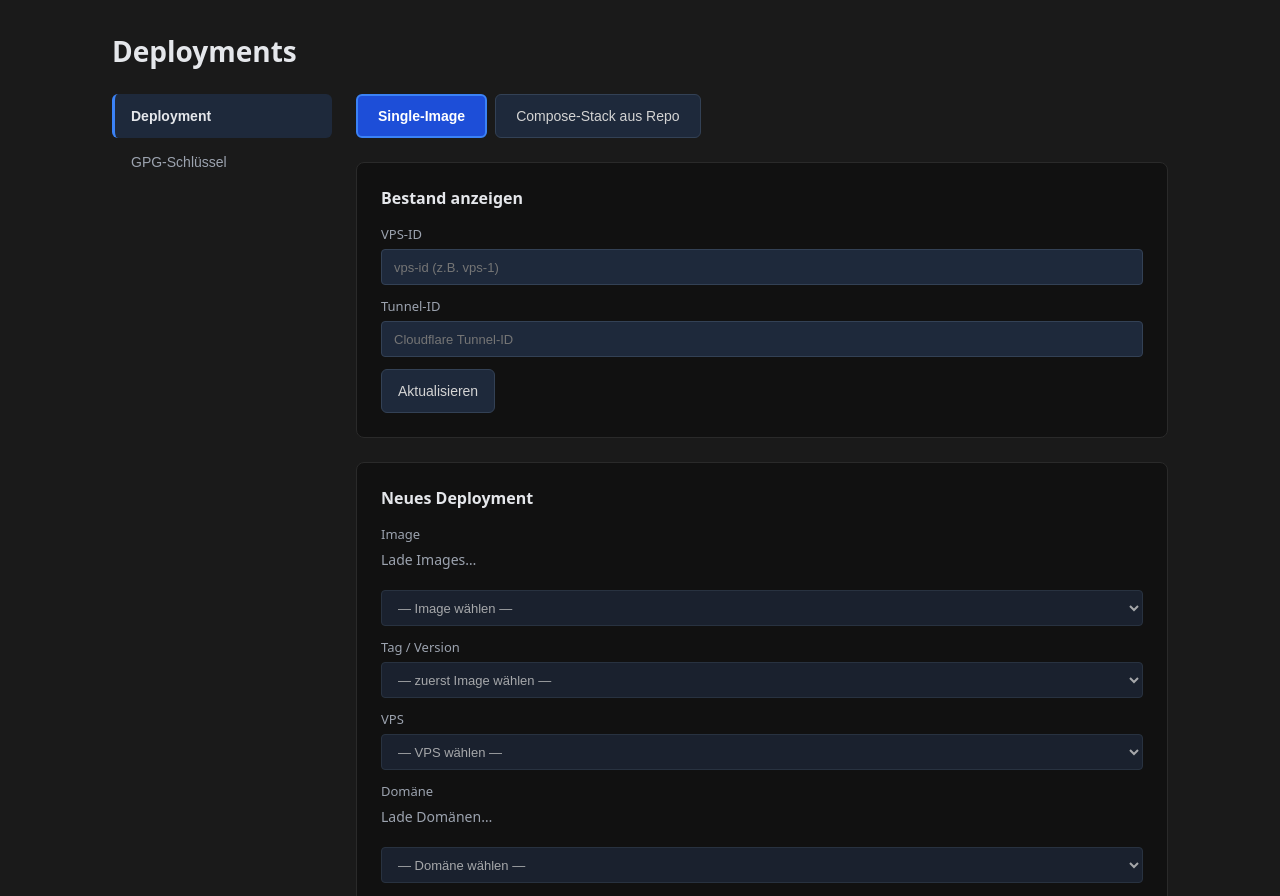
DeploymentsView — AC12: Stack-Deploy (POST /api/deployments/stacks/{stackName}/deploy) › shows success message after successful deploy
The image size is (1280, 896).
Click the button "Compose-Stack aus Repo" at coordinates (598, 116), box [495,94,700,138]
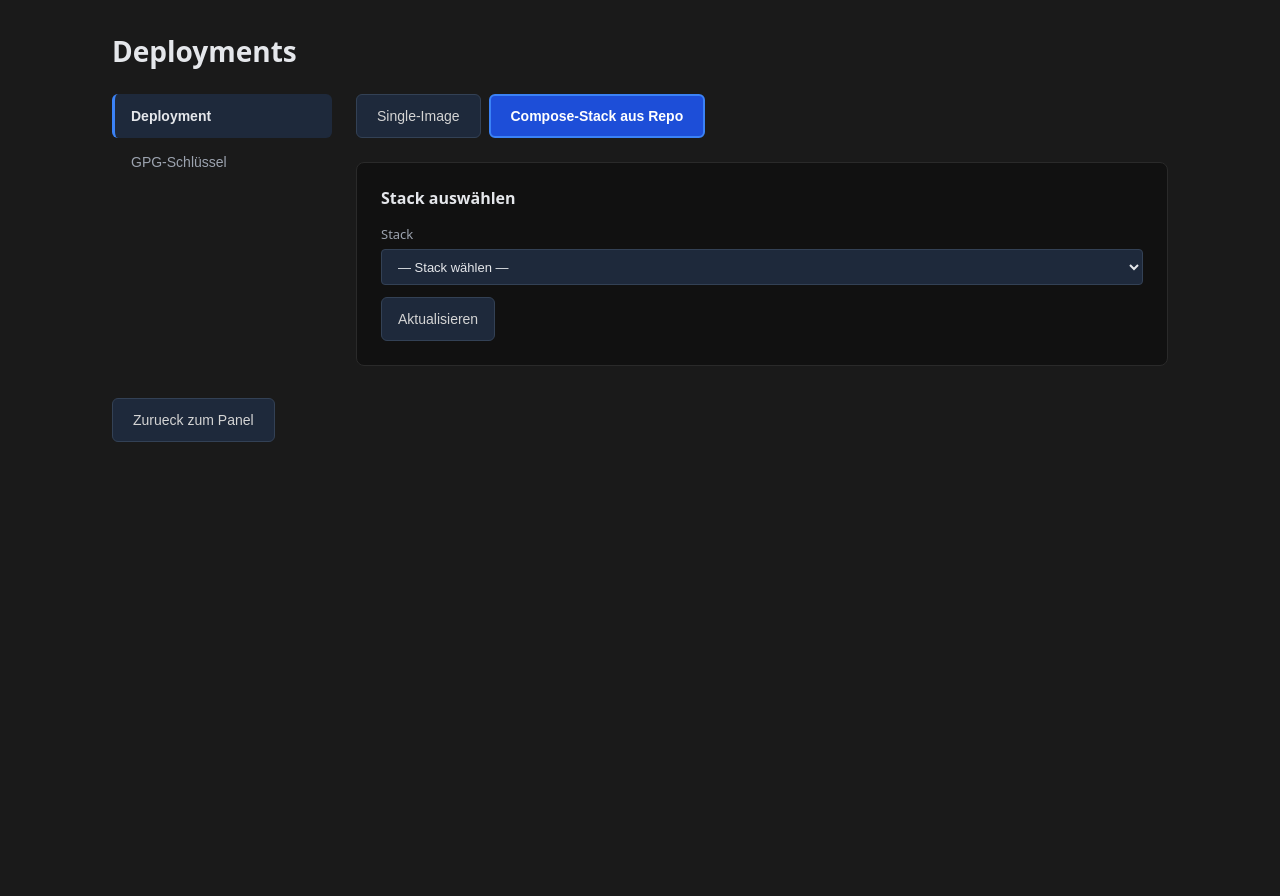
Check: the dropdown named "Compose-Stack auswählen" is shown
Select "myapp" in the dropdown named "Compose-Stack auswählen" at coordinates (762, 267), box [381,249,1143,285]
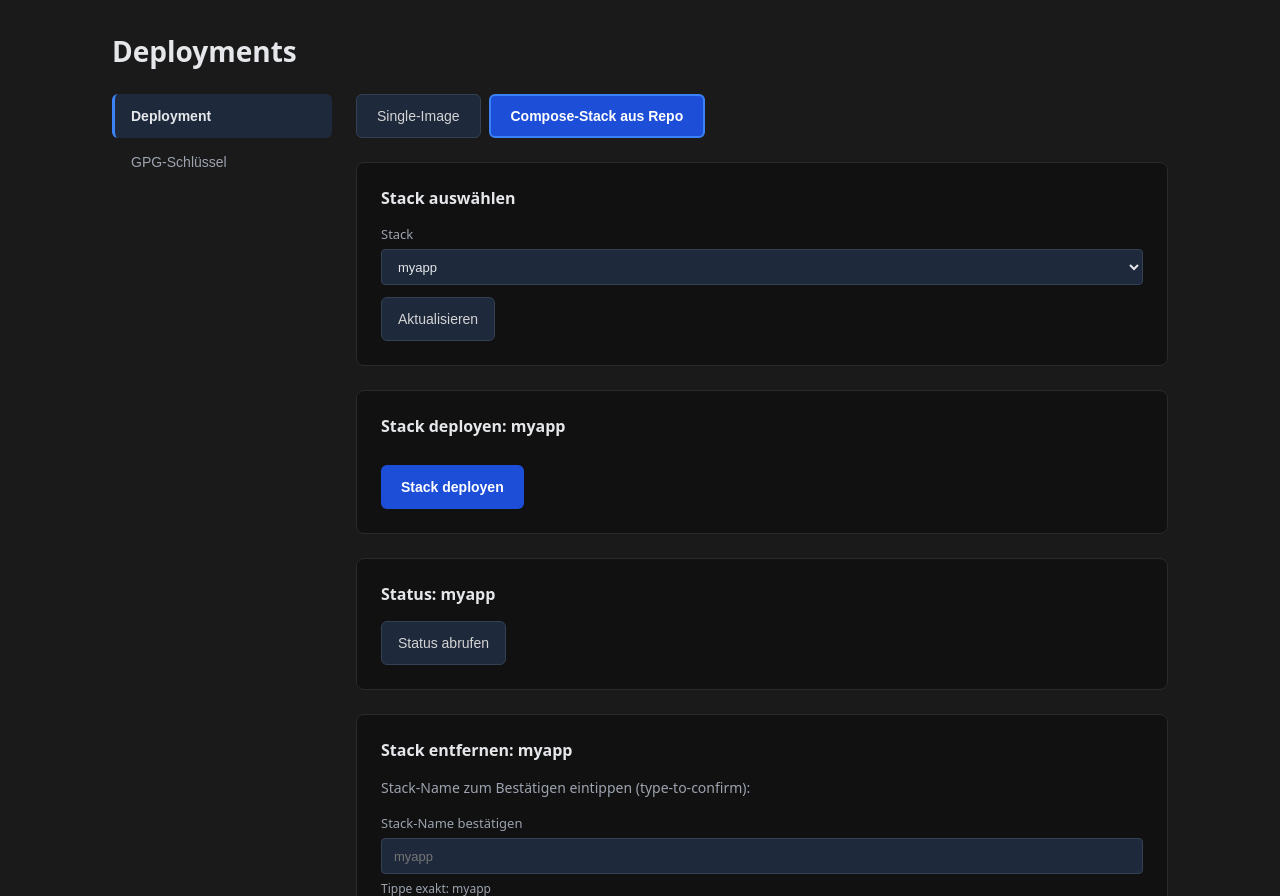
Check: the form named "Stack-Deploy-Formular" is shown
Submit the form named "Stack-Deploy-Formular", box [381,465,524,509]
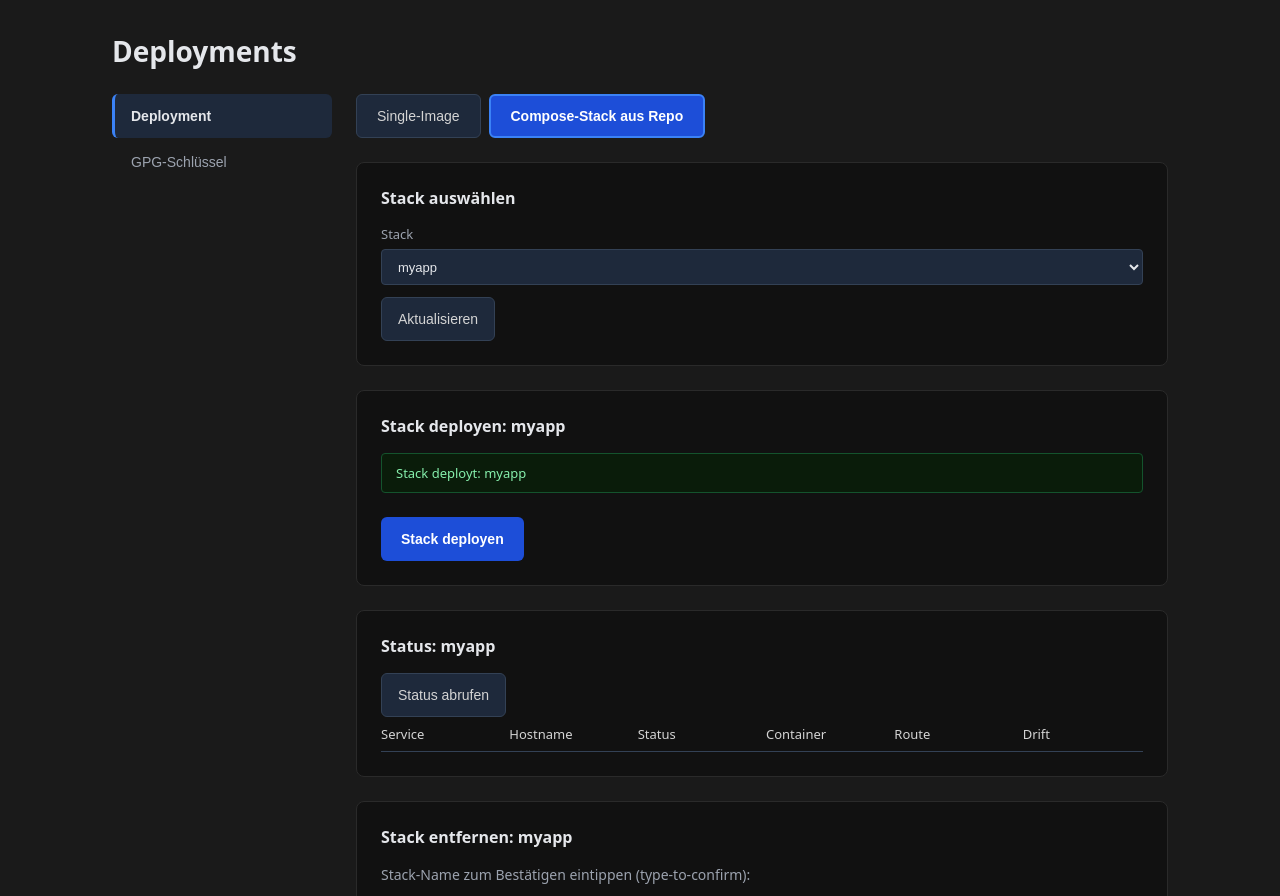
Check: the message reads "Stack deployt: myapp", box [396,464,526,482]
